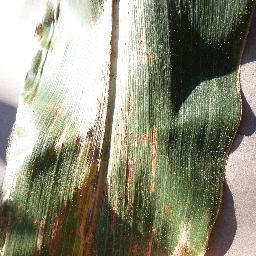Gray_Leaf_Spot: (0, 0, 158, 256), (173, 216, 226, 256), (230, 49, 248, 141), (213, 142, 234, 215), (158, 200, 172, 256), (242, 18, 253, 49)
